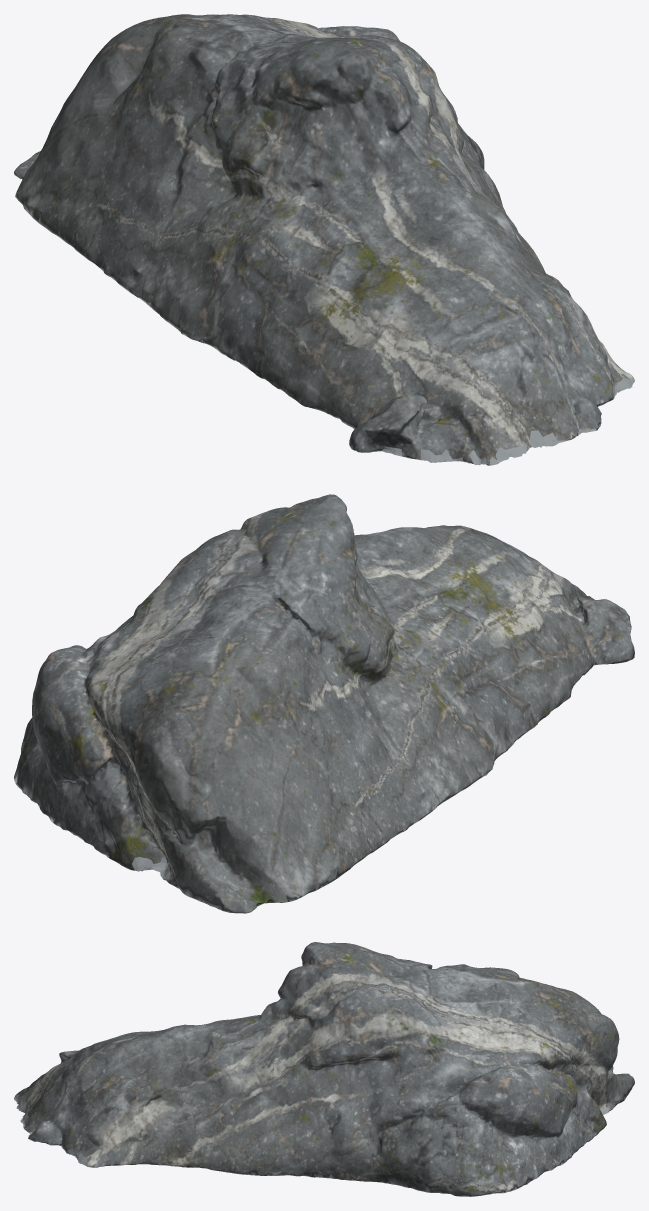
The model's file is SM_Rock_02.fbx.
3 views of the same model, one above another, from view 1: azimuth 30°, elevation 25°; view 2: azimuth 150°, elevation 25°; view 3: azimuth 270°, elevation 25° (orthographic). The views are drawn at different scales.
Parts seen in each view (by area): view 1: SM_Rock_02_LOD0; view 2: SM_Rock_02_LOD0; view 3: SM_Rock_02_LOD0.
Part boxes in pixels (bbox=[...]): SM_Rock_02_LOD0: bbox=[14, 14, 634, 465]; SM_Rock_02_LOD0: bbox=[14, 494, 634, 913]; SM_Rock_02_LOD0: bbox=[14, 942, 634, 1196].
Bounding box in the file's own units: 169 × 327 × 104.
Materials: 1 (1 with a texture image).
